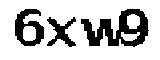6: (10, 3, 46, 51)
9: (120, 8, 152, 55)
w: (79, 15, 120, 49)
x: (44, 15, 78, 51)
